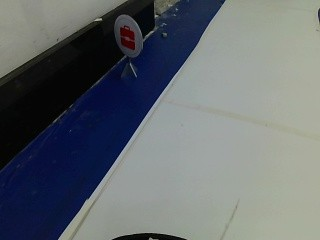company: (108, 10, 146, 60)
